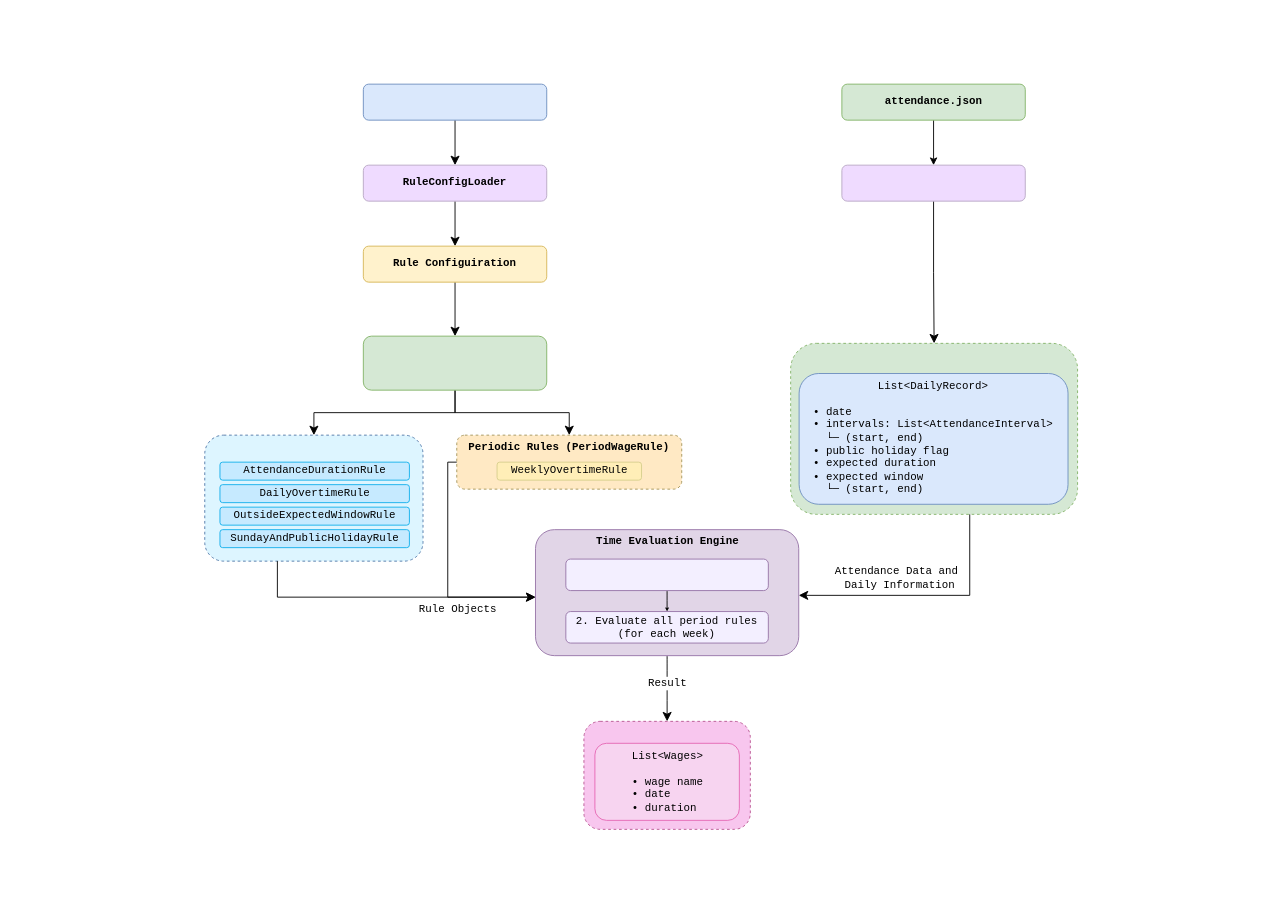
Image size: 1283x914. Some labels were removed from this diagram. The shapes that lost their labels are listed below. From the top down, each one's box as (x1, y1, x2, y2) in pixels, then its label:
(362, 83, 547, 120): rules.json
(841, 164, 1025, 201): AttendanceConfigLoader
(362, 335, 547, 390): Rule Factory Creates enabled rule objects from configuration
(790, 342, 1078, 514): Attendance Data
(204, 434, 423, 561): Daily Rules (WageRule)
(565, 558, 768, 591): 1. Evaluate all daily rules (for each attendance day)
(583, 720, 750, 829): Computed Wages
